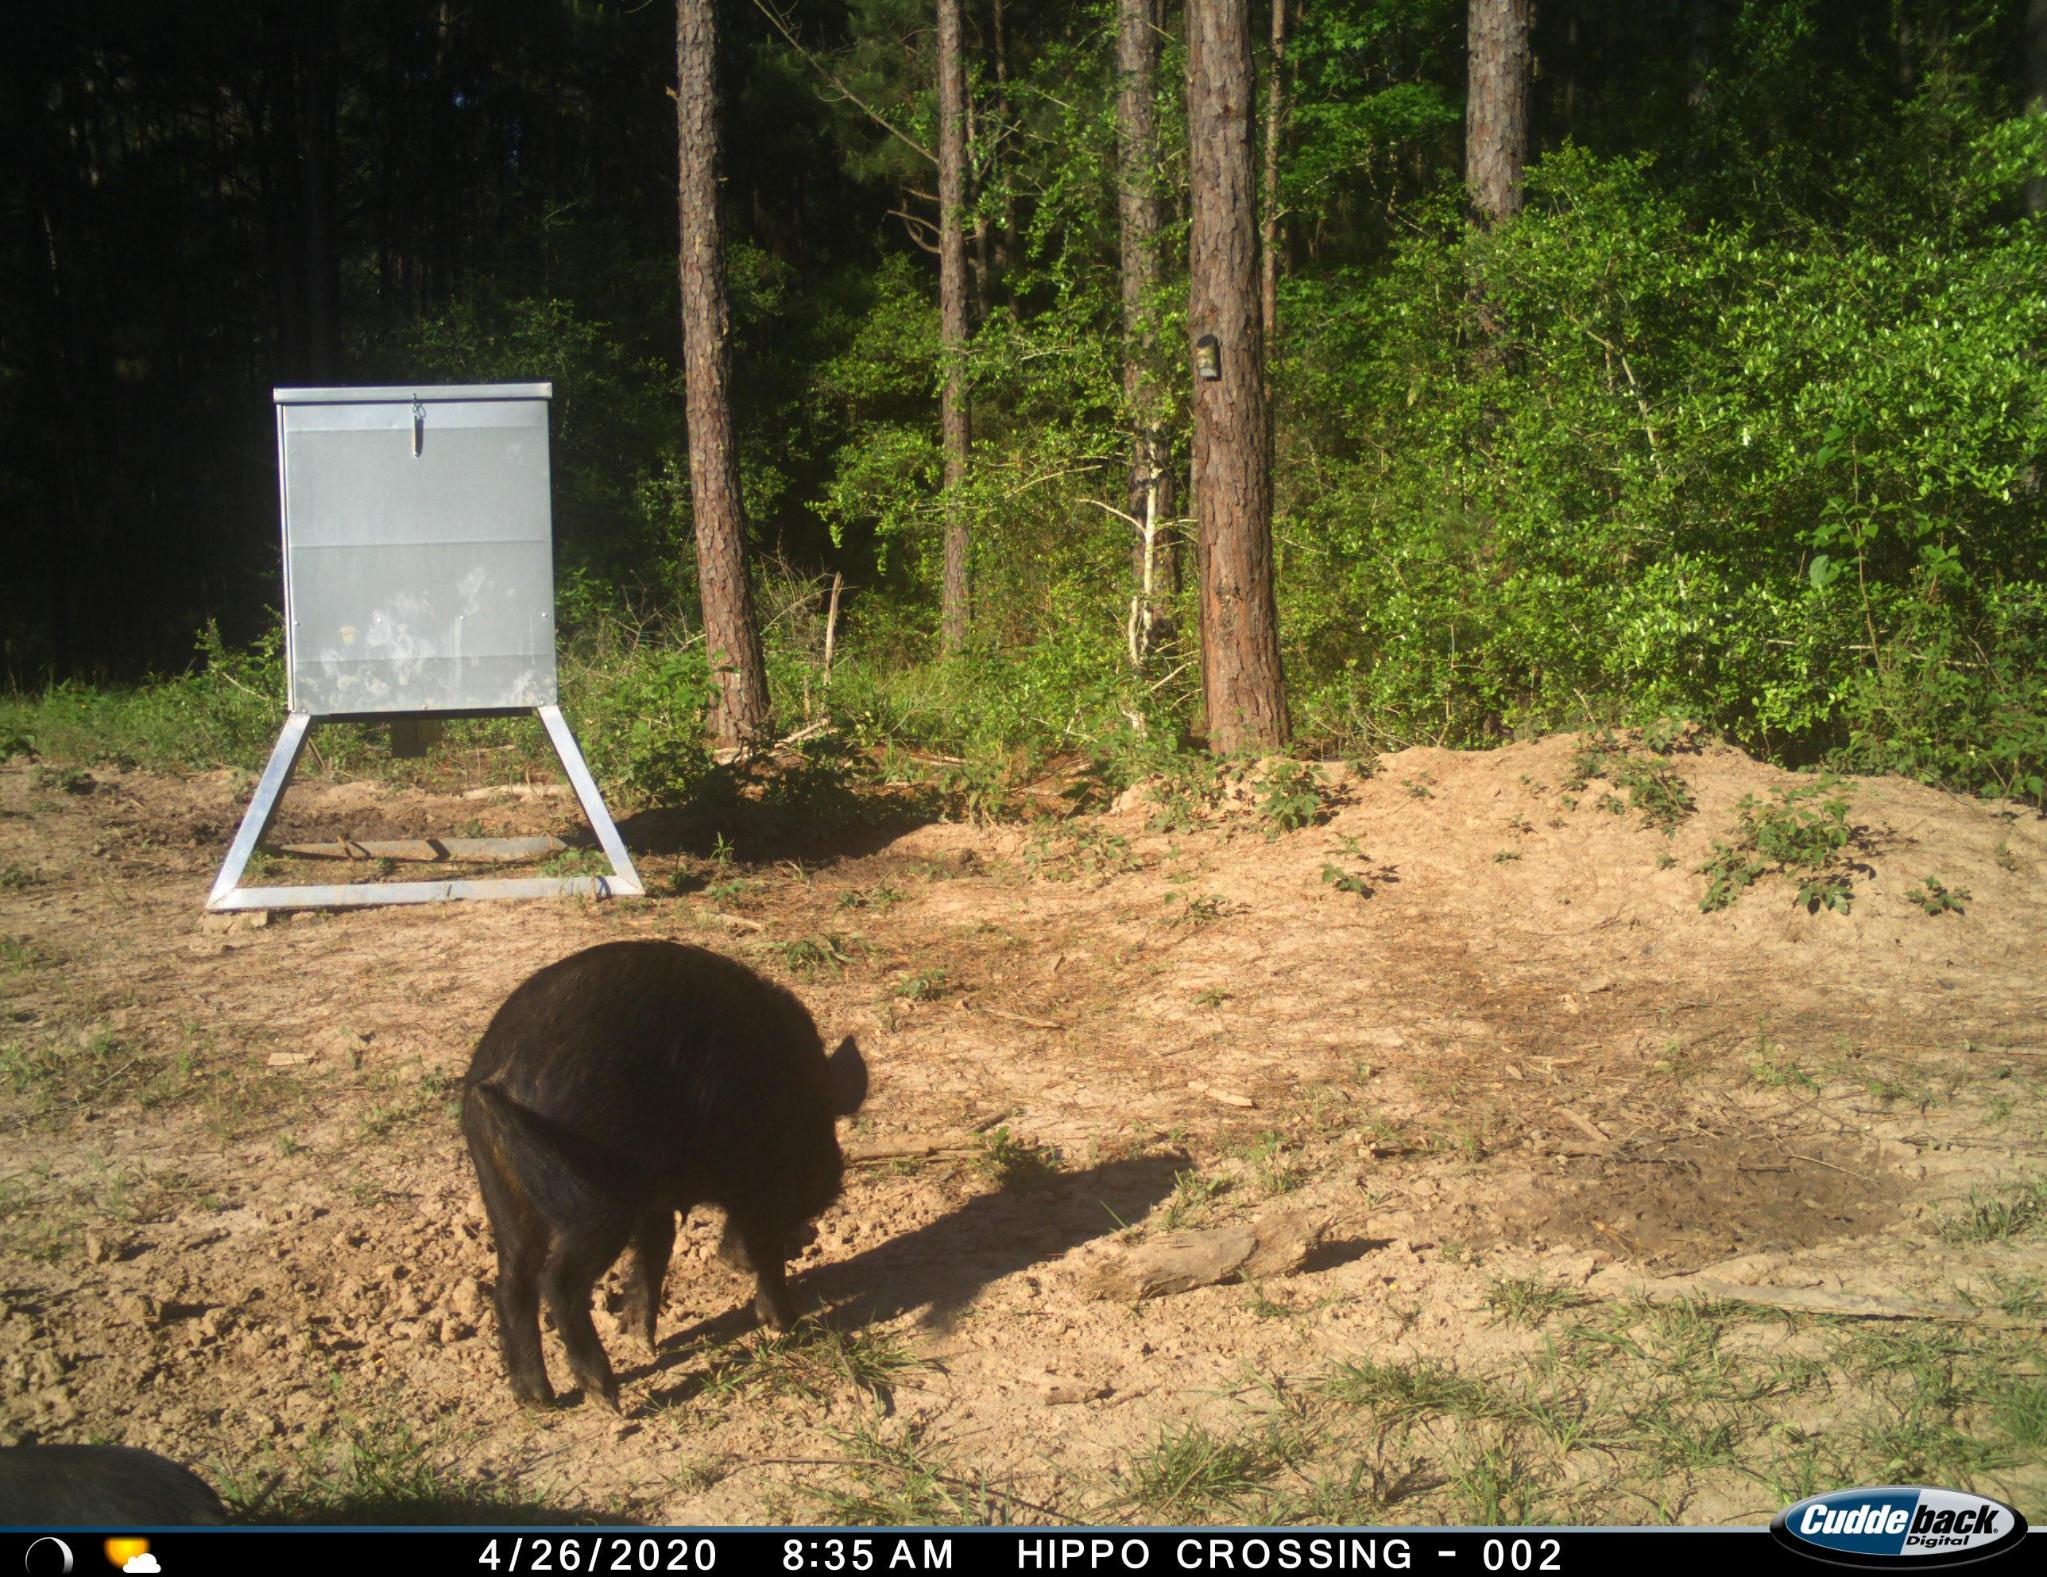Hog: (449, 934, 878, 1411)
